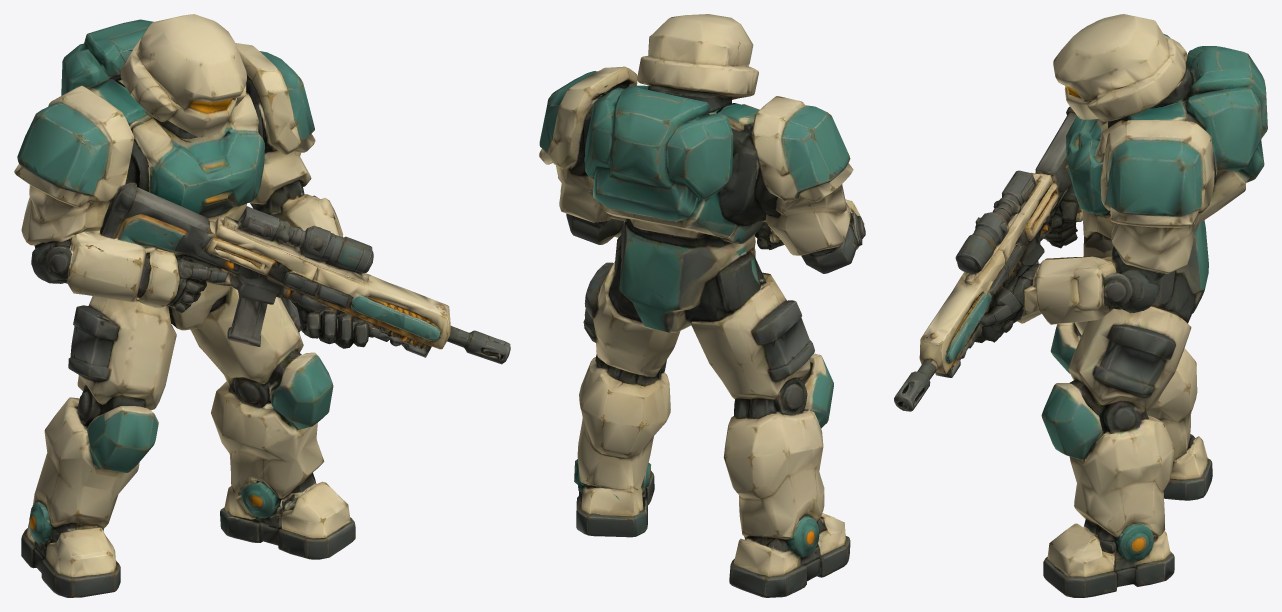
Rendered from lancer.glb.
3 renders of one model, left to right at view 1: azimuth 30°, elevation 25°; view 2: azimuth 150°, elevation 25°; view 3: azimuth 270°, elevation 25°, orthographic. The views are drawn at different scales.
Bounding box in the file's own units: 1.36 × 1.9 × 1.25.
1 material, 1 textured.
